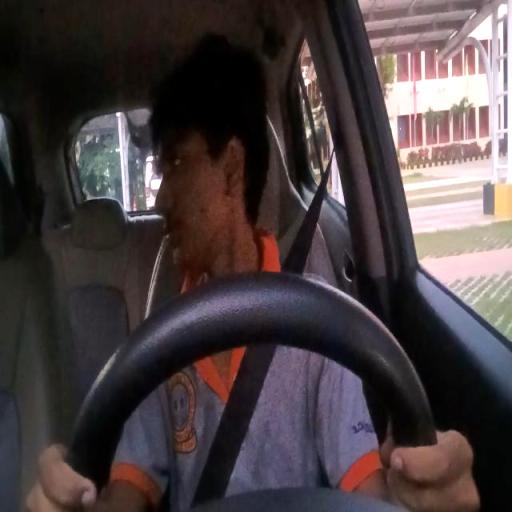Reaching_behind: (132, 39, 352, 467)
